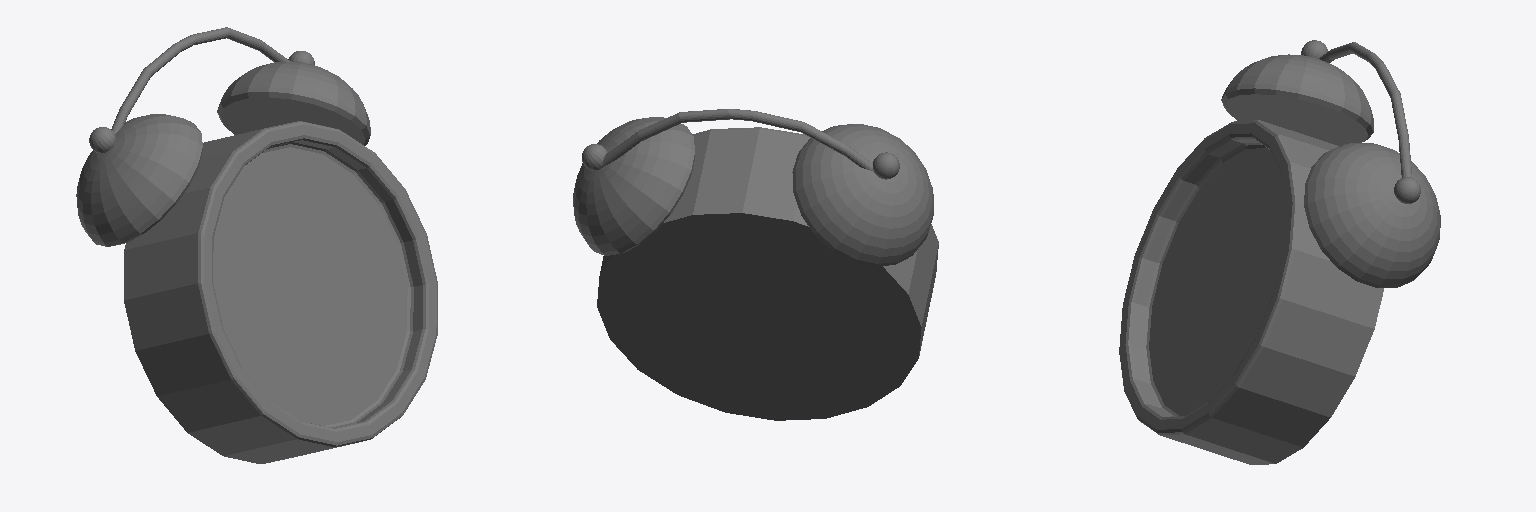
File: Reveil.obj
3 renders of one model, left to right at view 1: azimuth 30°, elevation 25°; view 2: azimuth 150°, elevation 25°; view 3: azimuth 270°, elevation 25°, orthographic.
Parts seen in each view (by area): view 1: reveille_Mesh.026, reveille3_Mesh.029, reveille5_Mesh.031, reveille1_Mesh.028, reveille4_Mesh.030; view 2: reveille_Mesh.026, reveille3_Mesh.029, reveille5_Mesh.031, reveille1_Mesh.028, reveille4_Mesh.030; view 3: reveille_Mesh.026, reveille5_Mesh.031, reveille3_Mesh.029, reveille1_Mesh.028, reveille2_Mesh.027.
Part boxes in pixels (x1,y1,x2,y2): reveille_Mesh.026: (124, 121, 437, 463); reveille3_Mesh.029: (76, 114, 202, 246); reveille5_Mesh.031: (217, 61, 370, 145); reveille1_Mesh.028: (111, 27, 289, 133); reveille4_Mesh.030: (89, 127, 115, 153); reveille_Mesh.026: (597, 127, 938, 420); reveille3_Mesh.029: (792, 124, 933, 266); reveille5_Mesh.031: (573, 117, 694, 255); reveille1_Mesh.028: (602, 109, 873, 171); reveille4_Mesh.030: (873, 152, 899, 179); reveille_Mesh.026: (1119, 120, 1383, 464); reveille5_Mesh.031: (1304, 143, 1440, 287); reveille3_Mesh.029: (1221, 54, 1373, 145); reveille1_Mesh.028: (1319, 42, 1411, 177); reveille2_Mesh.027: (1394, 177, 1420, 203).
Size of the model in its own units: 0.5622 by 0.6205 by 0.4841.